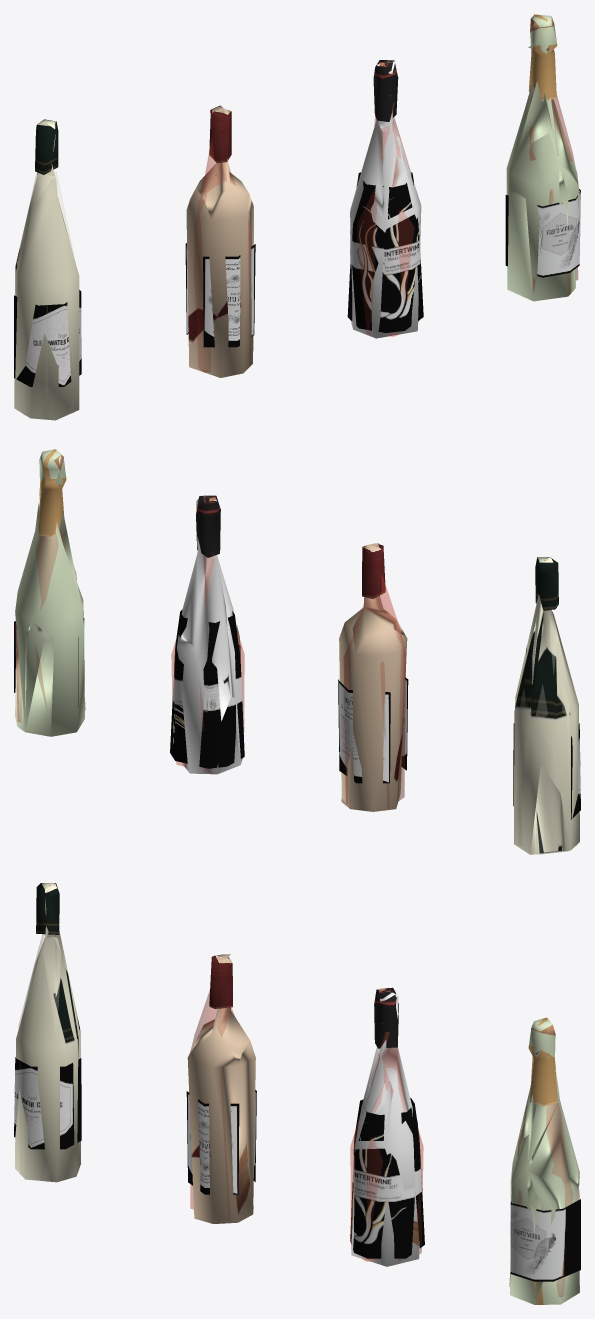
Rendered from wine_bottles_01.gltf.
The picture shows the model from 3 angles, top to bottom: view 1: azimuth 30°, elevation 25°; view 2: azimuth 150°, elevation 25°; view 3: azimuth 330°, elevation 25°; orthographic projection.
Bounding box in the file's own units: 0.6739 × 0.3302 × 0.0789.
Materials: 9 (6 with a texture image).
